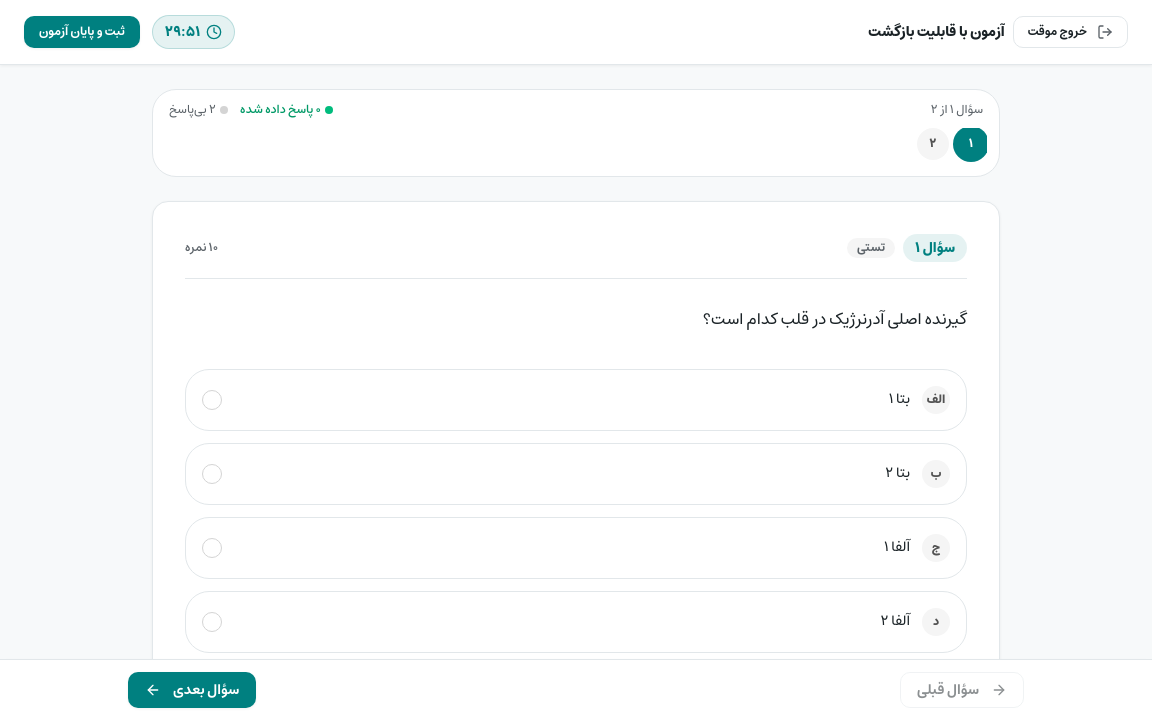
Test case: Student Teacher Platform Exam Flow — Unit & Integration Tests › 8. allowBackNavigation Feature Suite › 8.1. allowBackNavigation === true allows full backward navigation, answer review, modification, and re-advancing
This screenshot has width=1152, height=720.
Expected: the text "گیرنده اصلی آدرنرژیک در قلب کدام است؟" is shown, [702, 305, 967, 333]
Click the text "بتا ۱" at point(899, 400), box [889, 388, 910, 411]
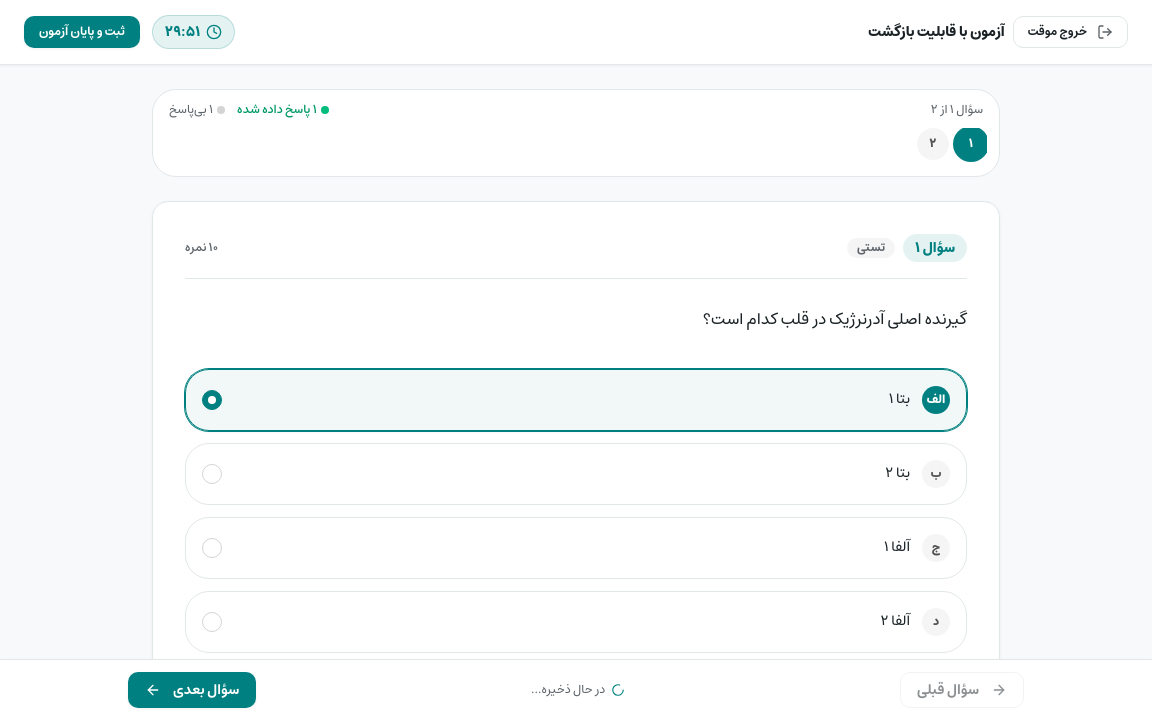
Note: Navigate to Question 2
Click the button "سؤال بعدی" at point(192, 690), box [128, 672, 256, 708]
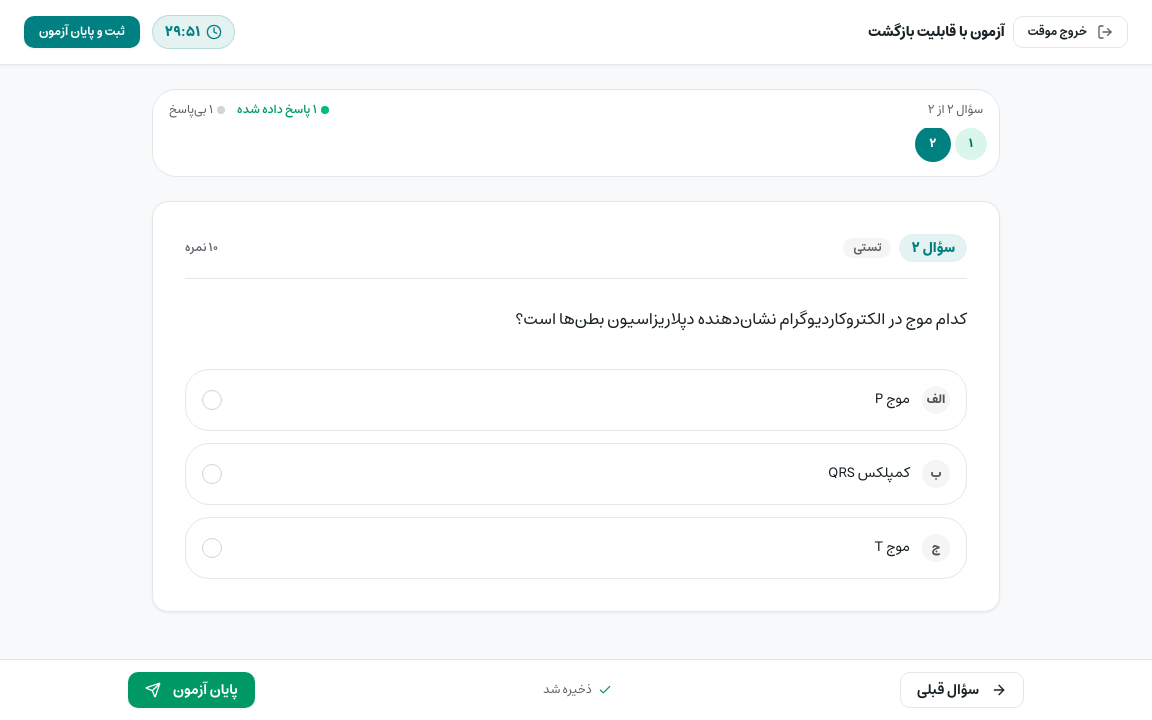
Expected: the text "کمپلکس QRS" is shown, [828, 462, 910, 485]
Expected: the button "سؤال قبلی" is enabled
Click the button "سؤال قبلی" at point(962, 690), box [900, 672, 1024, 708]
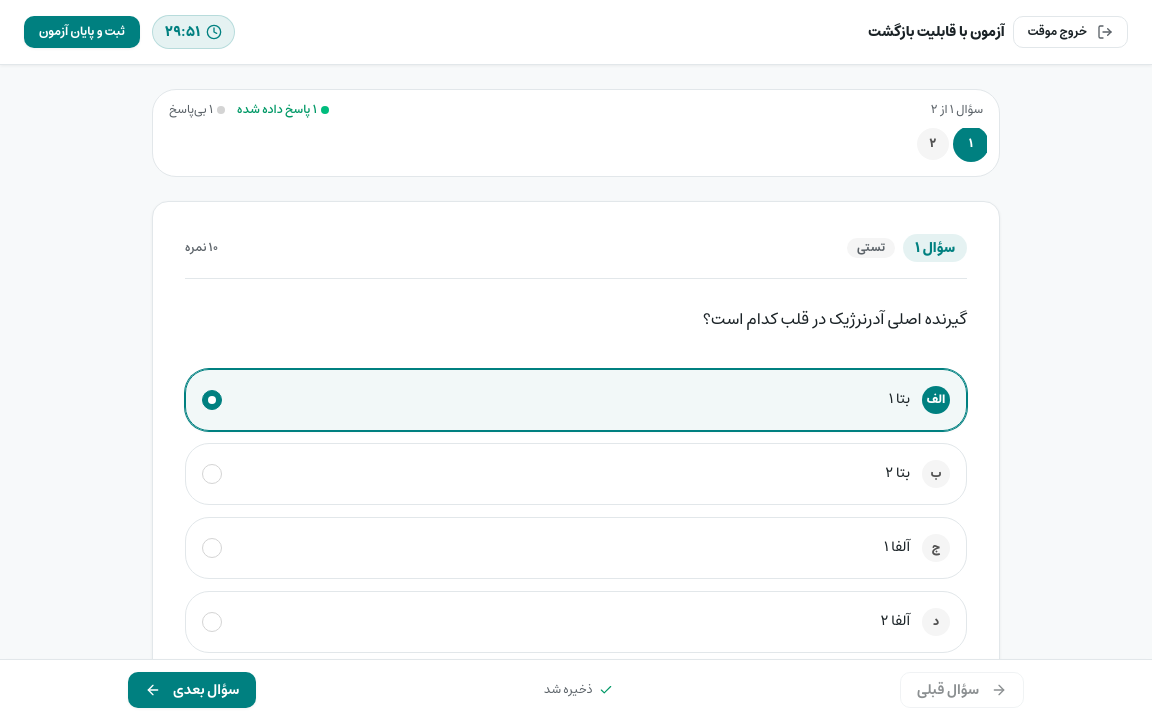
Expected: the text "بتا ۱" is shown, [889, 388, 910, 411]
Click the text "بتا ۲" at point(898, 474), box [885, 462, 910, 485]
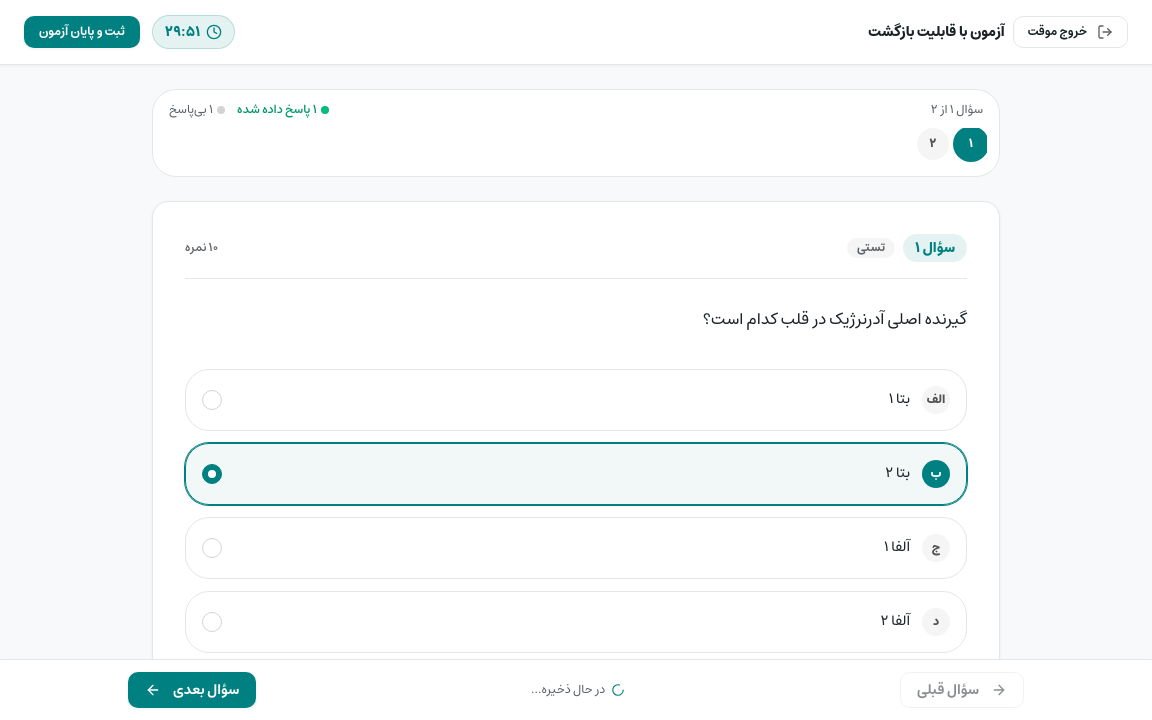
Note: Navigate forward to Question 2 again
Click the button "سؤال بعدی" at point(192, 690), box [128, 672, 256, 708]
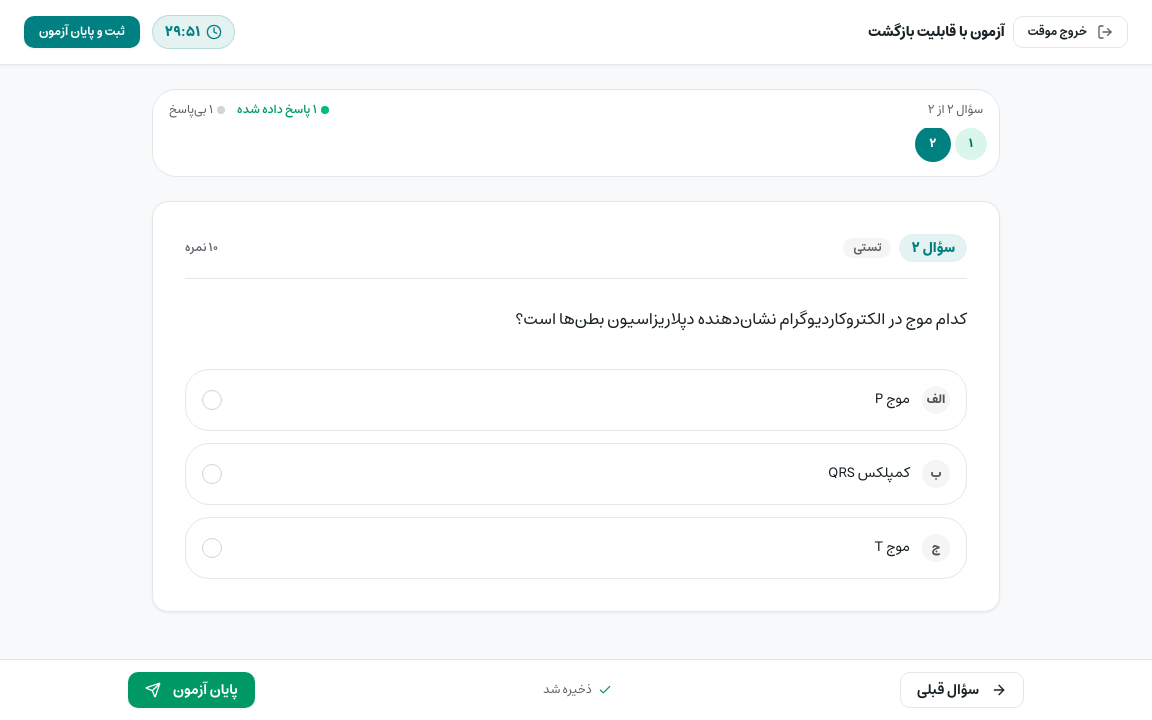
Expected: the text "کمپلکس QRS" is shown, [828, 462, 910, 485]
